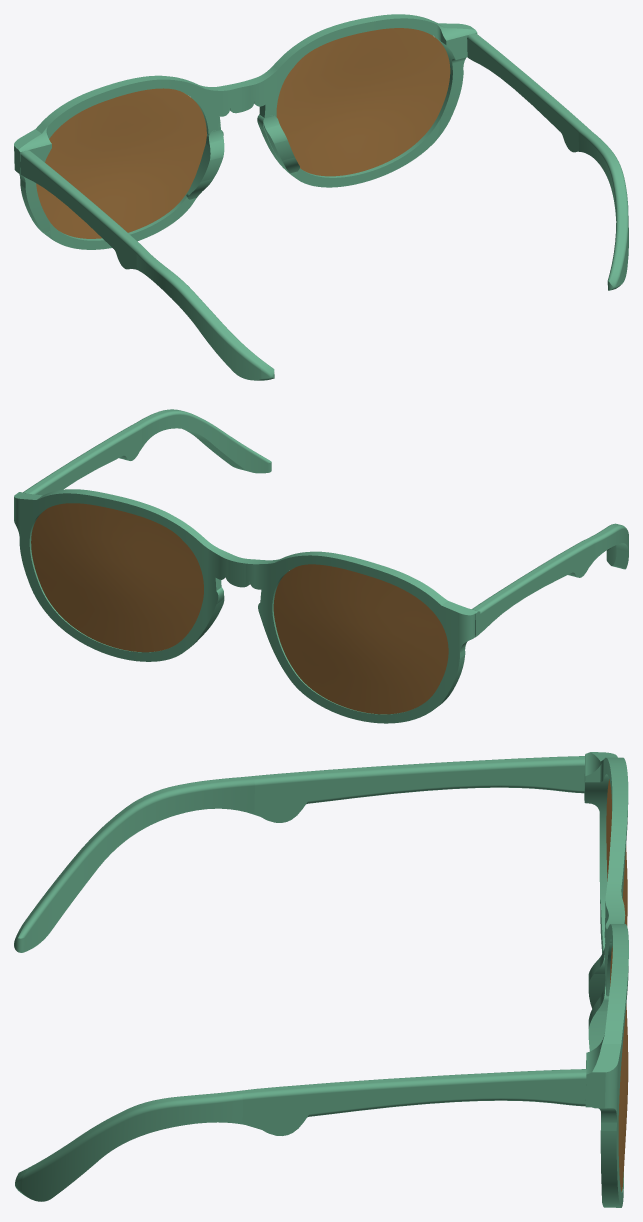
Rendered from done20.fbx.
3 renders of one model, top to bottom at view 1: azimuth 30°, elevation 25°; view 2: azimuth 150°, elevation 25°; view 3: azimuth 270°, elevation 25°, orthographic. The views are drawn at different scales.
Parts seen in each view (by area): view 1: Body_1_3, Body_1, Body_2, Body_1_2, Body_1_4; view 2: Body_2, Body_1_3, Body_1, Body_1_4, Body_1_2; view 3: Body_1_2, Body_1_4, Body_1, Body_1_3, Body_2.
Boxes of the visible parts, bbox=[...] form: Body_1_3: bbox=[276, 28, 450, 176]; Body_1: bbox=[14, 14, 477, 249]; Body_2: bbox=[36, 88, 206, 238]; Body_1_2: bbox=[20, 150, 274, 380]; Body_1_4: bbox=[467, 33, 628, 290]; Body_2: bbox=[273, 564, 448, 714]; Body_1_3: bbox=[31, 503, 203, 652]; Body_1: bbox=[14, 489, 480, 723]; Body_1_4: bbox=[23, 409, 271, 495]; Body_1_2: bbox=[472, 523, 628, 632]; Body_1_2: bbox=[14, 756, 584, 952]; Body_1_4: bbox=[15, 1069, 586, 1201]; Body_1: bbox=[584, 752, 628, 1207]; Body_1_3: bbox=[610, 946, 628, 1191]; Body_2: bbox=[606, 779, 627, 925].
Bounding box in the file's own units: 15.93 × 5.37 × 12.43.
